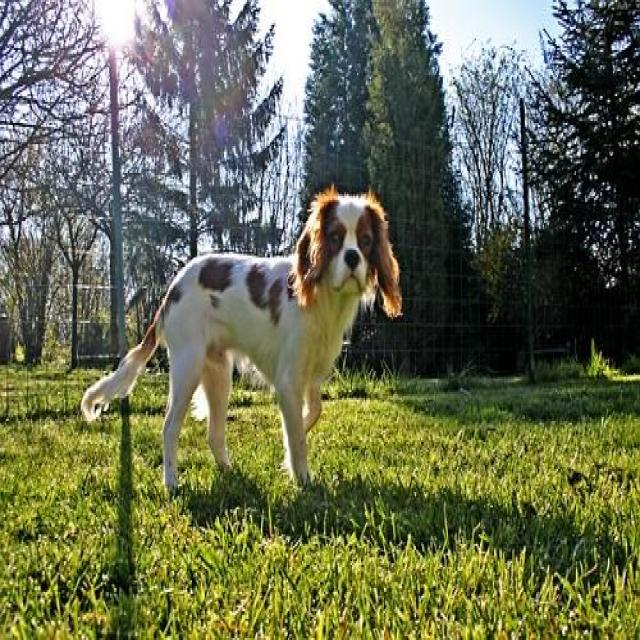blenheim_spaniel: (79, 198, 401, 496)
